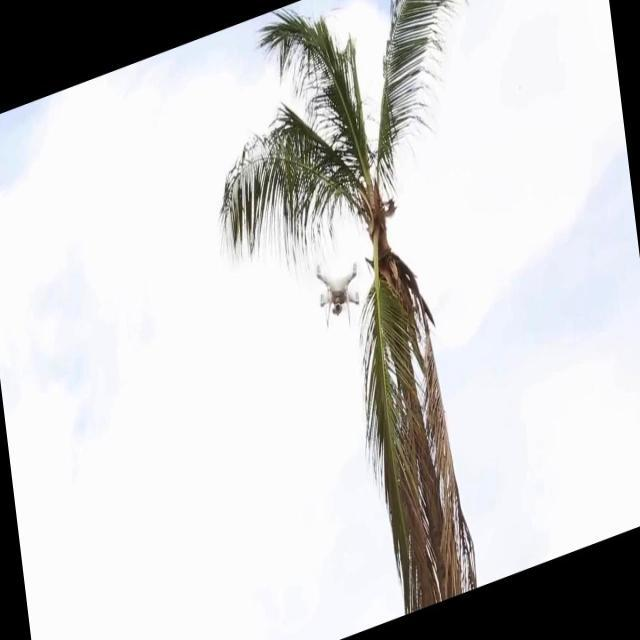drone: (310, 248, 364, 338)
